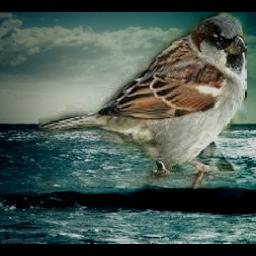Sparrow: (38, 13, 247, 189)
